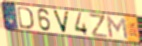4: (73, 11, 90, 37)
6: (37, 8, 52, 33)
D: (16, 6, 35, 31)
M: (104, 14, 130, 41)
V: (51, 9, 71, 35)
Z: (89, 13, 109, 39)
